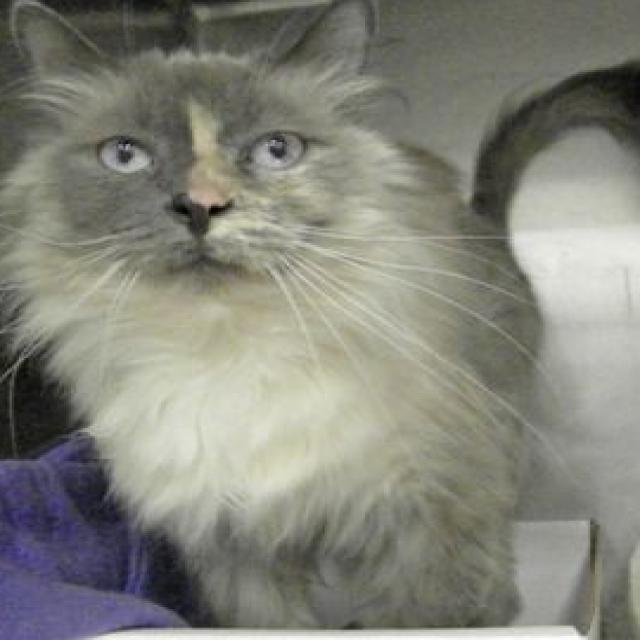Ragdoll: (0, 0, 552, 629)
